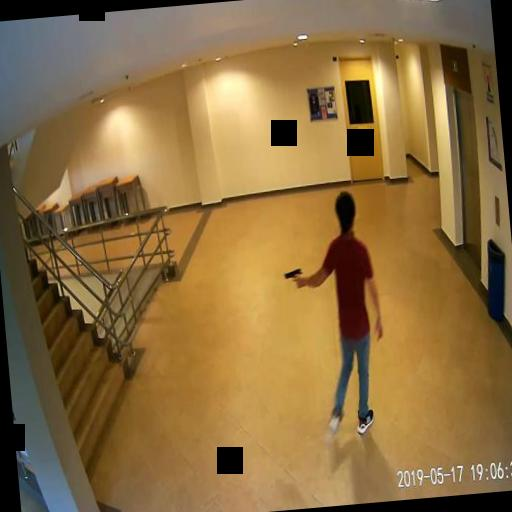Handgun: (282, 266, 303, 288)
